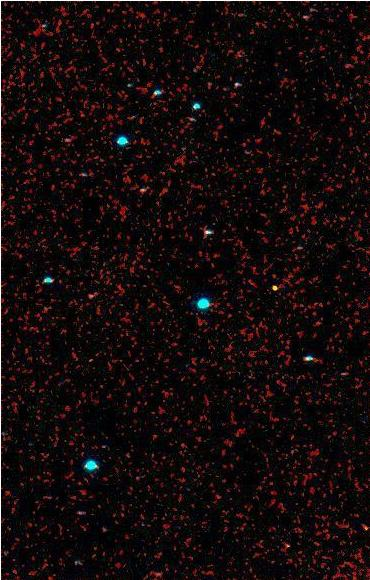star: (262, 272, 292, 302)
